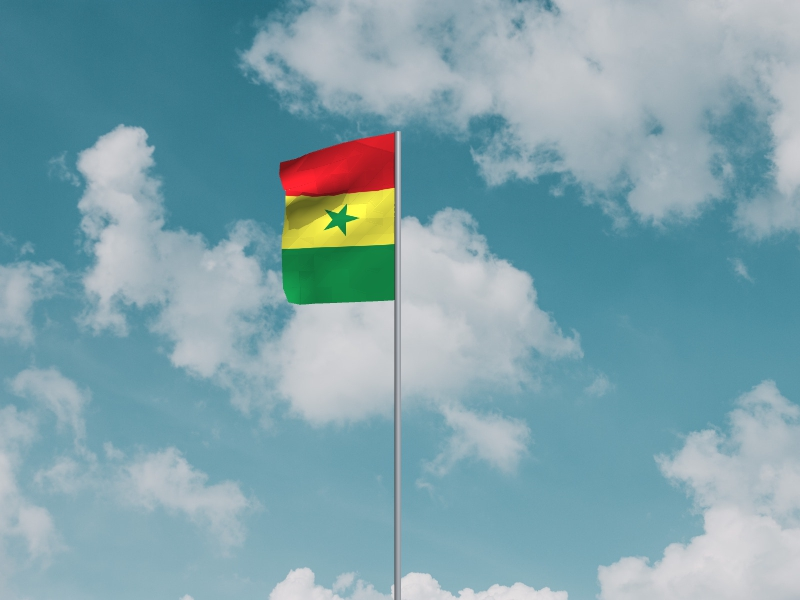sn: (279, 134, 394, 306)
